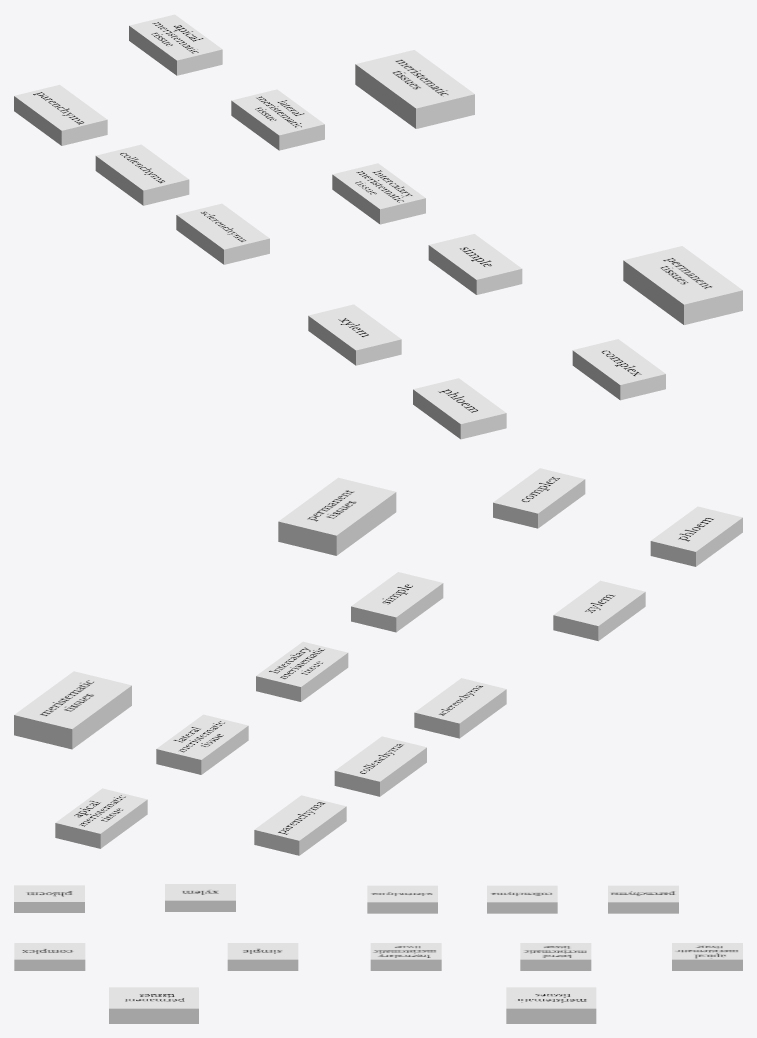
The model's file is PLANTS.fbx.
3 views of the same model, one above another, from view 1: azimuth 30°, elevation 25°; view 2: azimuth 150°, elevation 25°; view 3: azimuth 270°, elevation 25° (orthographic). The views are drawn at different scales.
Parts seen in each view (by area): view 1: pCube29, pCube28, pCube18, pCube24, pCube21, pCube27, pCube26, pCube17, pCube20, pCube19, pCube23, pCube25; view 2: pCube29, pCube28, pCube21, pCube19, pCube20, pCube27, pCube26, pCube17, pCube23, pCube24, pCube18, pCube25; view 3: pCube28, pCube29, pCube17, pCube19, pCube18, pCube24, pCube26, pCube23, pCube25, pCube21, pCube20, pCube27.
Boxes of the visible parts, <box> form: pCube29: <box>623,246,742,324</box>; pCube28: <box>355,50,474,128</box>; pCube18: <box>95,144,189,205</box>; pCube24: <box>428,234,522,294</box>; pCube21: <box>413,378,506,439</box>; pCube27: <box>129,14,222,75</box>; pCube26: <box>231,89,324,150</box>; pCube17: <box>14,84,107,145</box>; pCube20: <box>308,304,401,365</box>; pCube19: <box>176,203,269,264</box>; pCube23: <box>572,339,665,400</box>; pCube25: <box>332,163,425,224</box>; pCube29: <box>278,477,396,555</box>; pCube28: <box>14,671,131,749</box>; pCube21: <box>650,506,742,566</box>; pCube19: <box>414,678,506,738</box>; pCube20: <box>553,580,645,641</box>; pCube27: <box>55,788,147,848</box>; pCube26: <box>156,714,248,774</box>; pCube17: <box>254,795,346,855</box>; pCube23: <box>493,468,585,528</box>; pCube24: <box>351,572,443,632</box>; pCube18: <box>334,736,426,796</box>; pCube25: <box>256,641,348,701</box>; pCube28: <box>506,987,596,1023</box>; pCube29: <box>109,987,198,1023</box>; pCube17: <box>608,885,678,913</box>; pCube19: <box>367,885,437,913</box>; pCube18: <box>487,885,557,913</box>; pCube24: <box>227,943,298,970</box>; pCube26: <box>520,943,591,970</box>; pCube23: <box>14,943,85,970</box>; pCube25: <box>370,943,441,970</box>; pCube21: <box>14,885,84,912</box>; pCube20: <box>165,884,235,911</box>; pCube27: <box>672,943,742,970</box>.
Bounding box in the file's own units: 79.68 × 4.49 × 194.
1 material, 1 textured.
